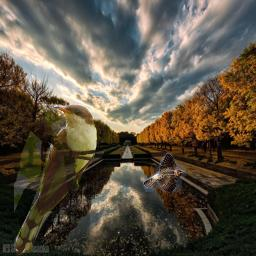Cuckoo: (14, 104, 97, 256)
Swallow: (143, 153, 186, 192)
